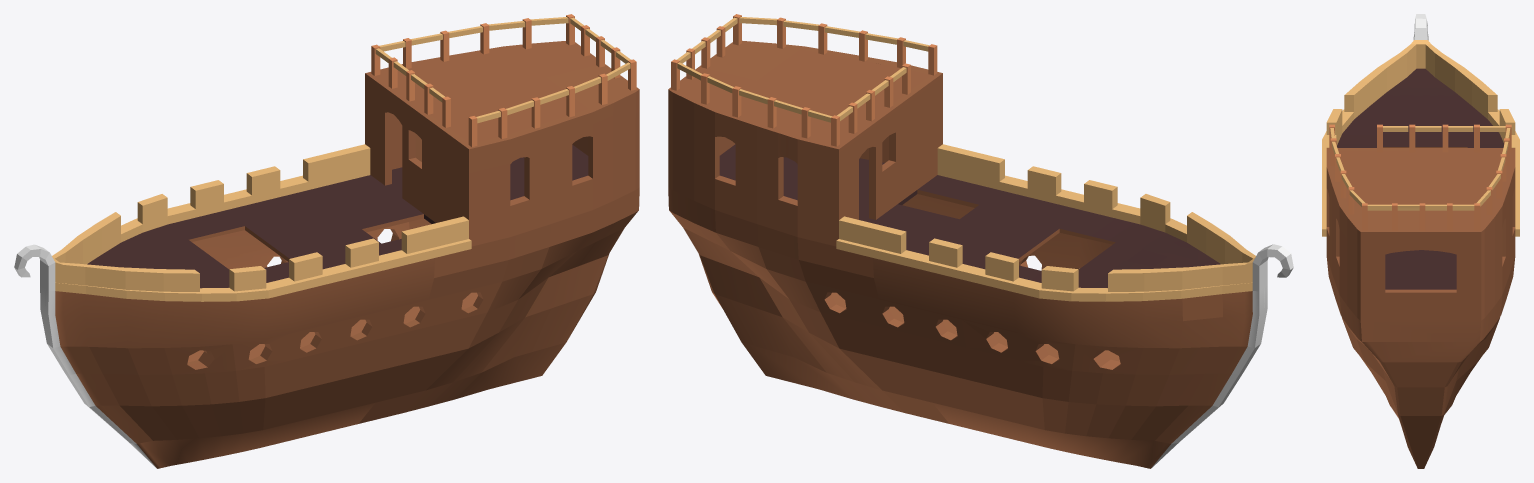
File: ship1.fbx
3 views of the same model, side by side, from view 1: azimuth 30°, elevation 25°; view 2: azimuth 150°, elevation 25°; view 3: azimuth 270°, elevation 25° (orthographic). The views are drawn at different scales.
Parts seen in each view (by area): view 1: pCube8, pCube28; view 2: pCube8, pCube28; view 3: pCube8, pCube28.
Boxes of the visible parts, left/top/right/bottom form: pCube8: left=14, top=41, right=639, bottom=468; pCube28: left=371, top=14, right=636, bottom=146; pCube8: left=668, top=40, right=1293, bottom=468; pCube28: left=671, top=14, right=937, bottom=146; pCube8: left=1322, top=14, right=1519, bottom=468; pCube28: left=1329, top=124, right=1511, bottom=230.
Bounding box in the file's own units: 52.43 × 27.25 × 16.75.
